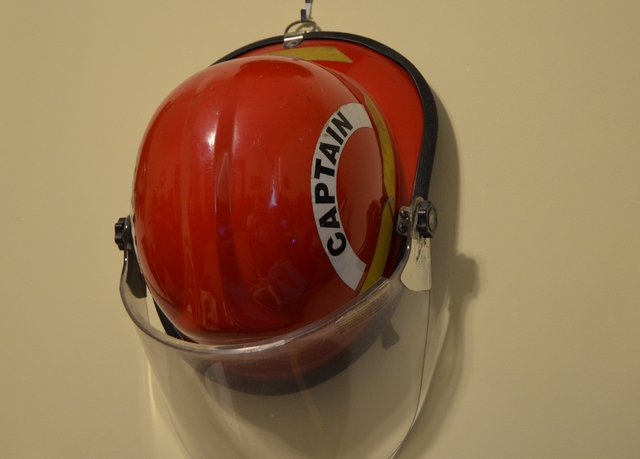helmet: (116, 63, 423, 329)
